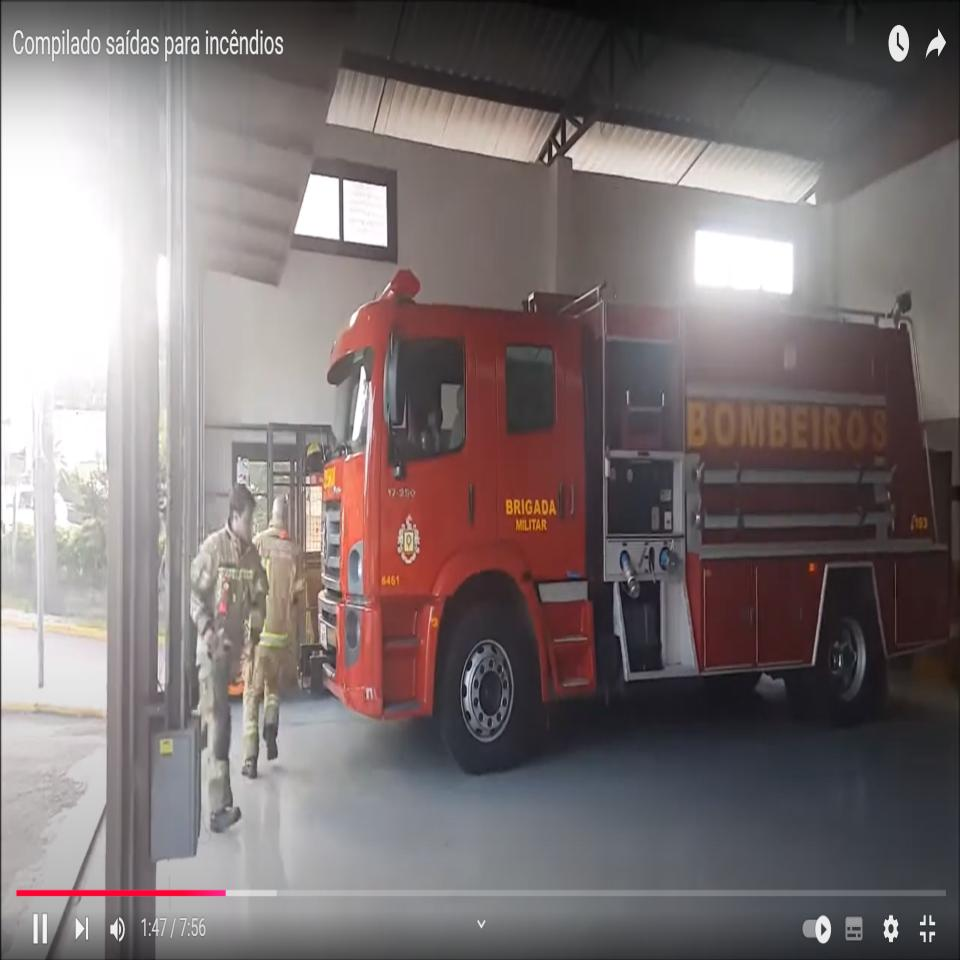viatura: (314, 270, 960, 779)
